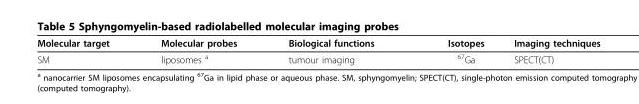table: (36, 36, 599, 64)
table column: (262, 36, 410, 64), (134, 36, 262, 64), (498, 36, 599, 64), (36, 36, 134, 64), (410, 36, 498, 64)
table column header: (36, 36, 599, 50)
table row: (36, 36, 599, 50), (36, 50, 599, 64)
